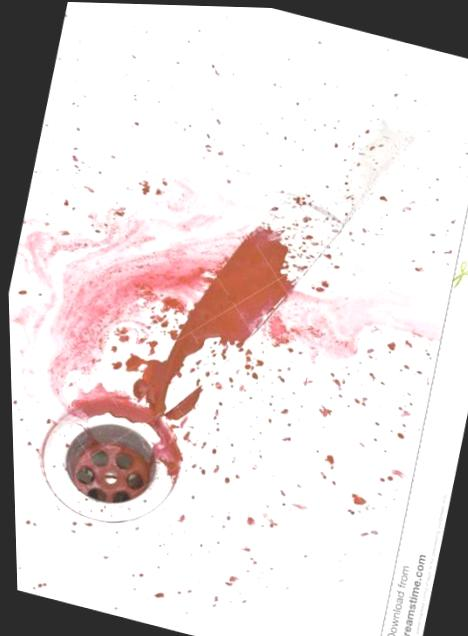Fire: (20, 118, 414, 523), (96, 323, 434, 602), (34, 46, 271, 228), (267, 285, 443, 377), (379, 172, 444, 284), (341, 243, 379, 276)
